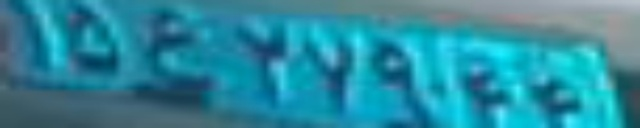1: (8, 0, 49, 68)
2: (231, 18, 293, 107)
4: (453, 67, 513, 127), (521, 75, 588, 127)
5: (60, 1, 123, 72)
7: (299, 31, 362, 115)
9: (368, 40, 436, 127)
ain: (143, 9, 219, 93)
